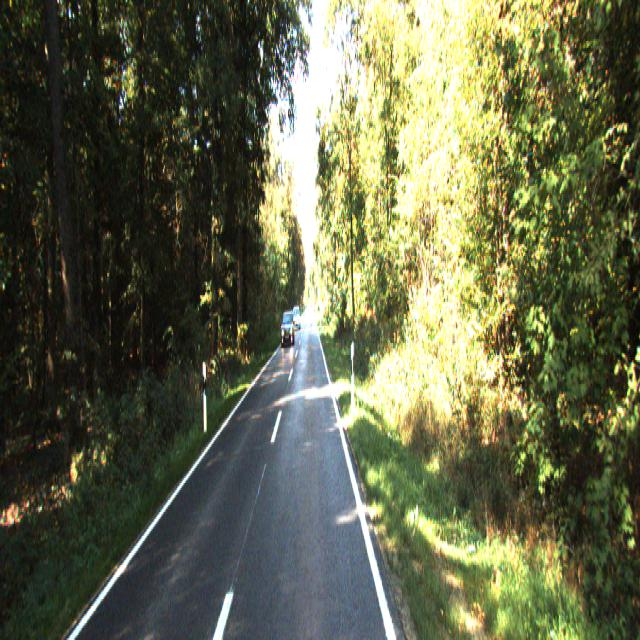Car: (280, 311, 295, 348)
